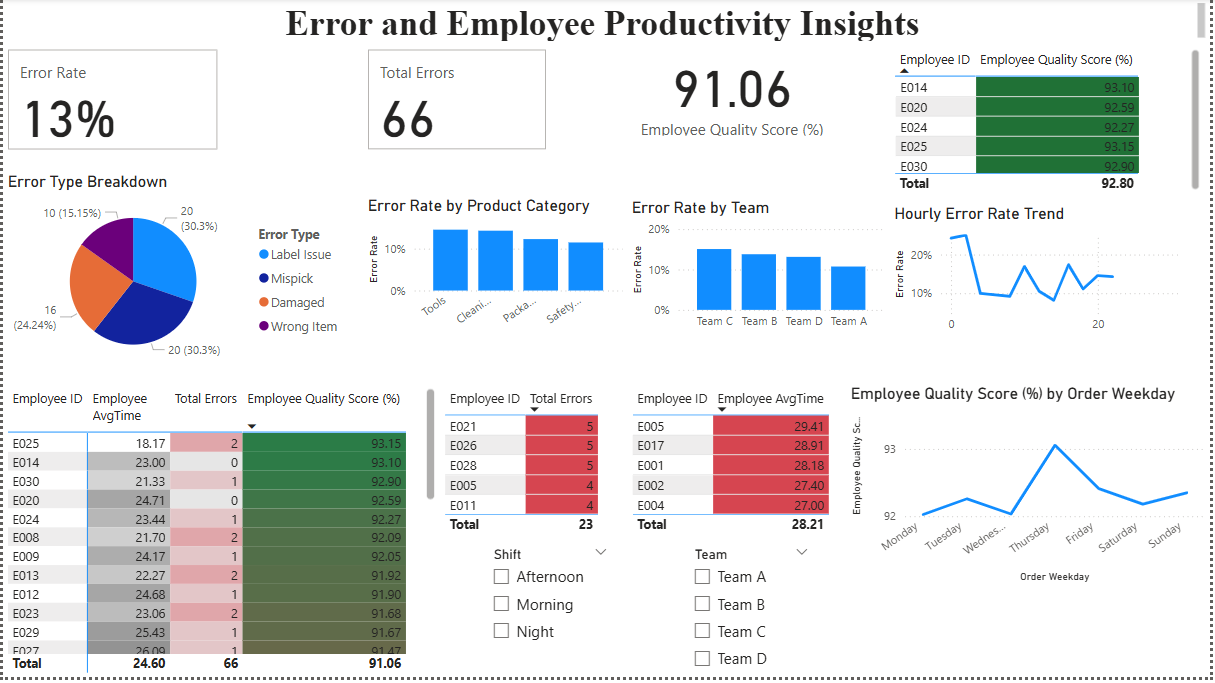

This screenshot's page, from the dashboard's own definition file:
{"tool":"powerbi","page":{"name":"Productivity and Error Insights","canvas":[1280,720],"ordinal":3},"visuals":[{"type":"cardVisual","fields":{"Data":["fulfillment_data_xls.Error Rate"]},"box":[0,49.8,232.3,116.1],"z":0},{"type":"clusteredColumnChart","fields":{"Y":["fulfillment_data_xls.Error Rate"],"Category":["fulfillment_data_xls.Product Category"]},"box":[381.6,210.2,280.2,149.3],"z":1000},{"type":"clusteredColumnChart","fields":{"Y":["fulfillment_data_xls.Error Rate"],"Category":["fulfillment_data_xls.Team"]},"box":[661.8,212,278.4,149.3],"z":2000},{"type":"lineChart","title":"Hourly Error Rate Trend","fields":{"Y":["fulfillment_data_xls.Error Rate"],"Category":["fulfillment_data_xls.Hour"]},"box":[940.2,217.5,313.4,145.6],"z":3000},{"type":"pieChart","title":"Error Type Breakdown","fields":{"Y":["CountNonNull(fulfillment_data_xls.Error Type)"],"Category":["fulfillment_data_xls.Error Type"]},"box":[0,184.4,368.7,212],"z":4000},{"type":"card","fields":{"Values":["fulfillment_data_xls.Employee Quality Score (%)"]},"box":[652.6,49.8,241.5,101.4],"z":5000},{"type":"cardVisual","fields":{"Data":["fulfillment_data_xls.Total Errors"]},"box":[381.6,49.8,199.1,116.1],"z":6000},{"type":"tableEx","fields":{"Values":["fulfillment_data_xls.Employee ID","fulfillment_data_xls.Employee Quality Score (%)"]},"box":[940.2,49.8,333.7,162.2],"z":7000},{"type":"pivotTable","fields":{"Rows":["fulfillment_data_xls.Employee ID"],"Values":["fulfillment_data_xls.Employee AvgTime","fulfillment_data_xls.Total Errors","fulfillment_data_xls.Employee Quality Score (%)"]},"box":[0,409.3,462.7,311.6],"z":8000},{"type":"tableEx","fields":{"Values":["fulfillment_data_xls.Employee ID","fulfillment_data_xls.Total Errors"]},"box":[462.7,409.3,258.1,193.6],"z":9000},{"type":"tableEx","fields":{"Values":["fulfillment_data_xls.Employee ID","fulfillment_data_xls.Employee AvgTime"]},"box":[661.8,409.3,335.5,193.6],"z":10000},{"type":"lineChart","fields":{"Category":["fulfillment_data_xls.Order Weekday"],"Y":["fulfillment_data_xls.Employee Quality Score (%)"]},"box":[894.1,409.3,385.3,215.7],"z":11000},{"type":"slicer","fields":{"Values":["fulfillment_data_xls.Shift"]},"box":[507,575.2,145.6,143.8],"z":12000},{"type":"slicer","fields":{"Values":["fulfillment_data_xls.Team"]},"box":[720.8,575.2,145.6,143.8],"z":13000},{"type":"textbox","box":[0,0,1279.4,49.8],"z":14000}]}

Visuals, with their boxes in screenshot pixels (x1, y1, x2, y2), scaled from the page's 1280x720 canvas onto the 1215x683 screenshot:
cardVisual - fulfillment_data_xls.Error Rate: [x1=0, y1=47, x2=221, y2=157]
clusteredColumnChart - fulfillment_data_xls.Error Rate x fulfillment_data_xls.Product Category: [x1=362, y1=199, x2=628, y2=341]
clusteredColumnChart - fulfillment_data_xls.Error Rate x fulfillment_data_xls.Team: [x1=628, y1=201, x2=892, y2=343]
"Hourly Error Rate Trend" lineChart: [x1=892, y1=206, x2=1190, y2=344]
"Error Type Breakdown" pieChart: [x1=0, y1=175, x2=350, y2=376]
card - fulfillment_data_xls.Employee Quality Score (%): [x1=619, y1=47, x2=849, y2=143]
cardVisual - fulfillment_data_xls.Total Errors: [x1=362, y1=47, x2=551, y2=157]
tableEx - fulfillment_data_xls.Employee ID x fulfillment_data_xls.Employee Quality Score (%): [x1=892, y1=47, x2=1209, y2=201]
pivotTable - fulfillment_data_xls.Employee ID x fulfillment_data_xls.Employee AvgTime: [x1=0, y1=388, x2=439, y2=682]
tableEx - fulfillment_data_xls.Employee ID x fulfillment_data_xls.Total Errors: [x1=439, y1=388, x2=684, y2=572]
tableEx - fulfillment_data_xls.Employee ID x fulfillment_data_xls.Employee AvgTime: [x1=628, y1=388, x2=947, y2=572]
lineChart - fulfillment_data_xls.Order Weekday x fulfillment_data_xls.Employee Quality Score (%): [x1=849, y1=388, x2=1214, y2=593]
slicer - fulfillment_data_xls.Shift: [x1=481, y1=546, x2=619, y2=682]
slicer - fulfillment_data_xls.Team: [x1=684, y1=546, x2=822, y2=682]
textbox: [x1=0, y1=0, x2=1214, y2=47]
